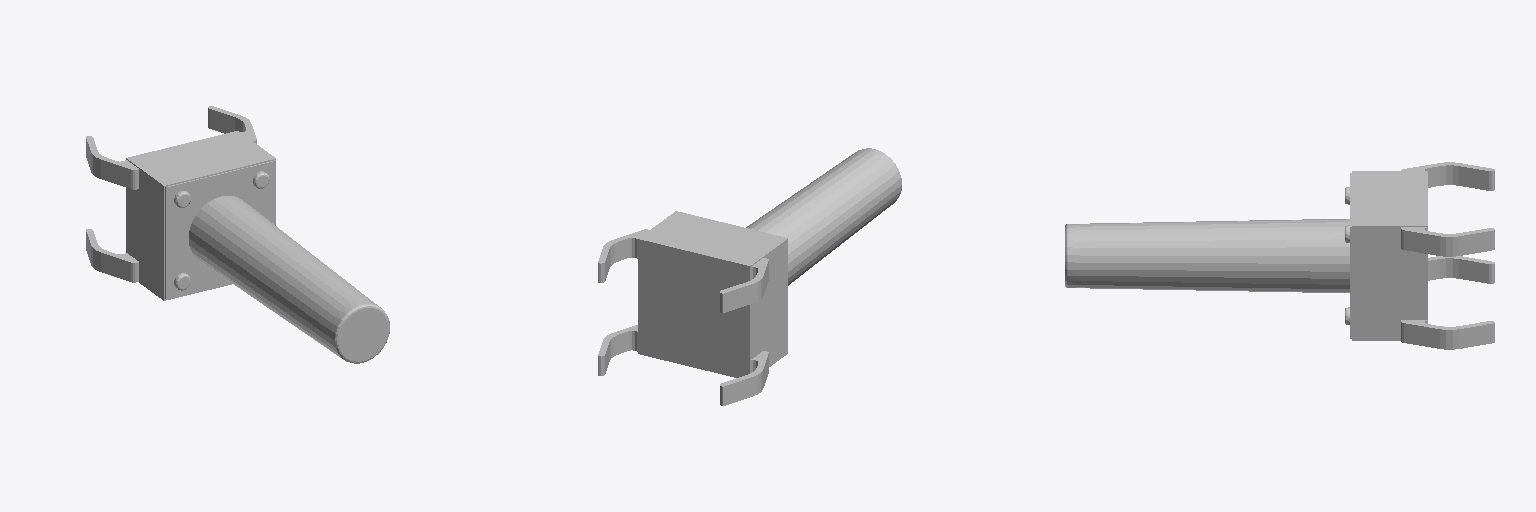
File: Tactal Switch -Thru (6mmx 6mmx17.0mm).obj
3 views of the same model, side by side, from view 1: azimuth 30°, elevation 25°; view 2: azimuth 150°, elevation 25°; view 3: azimuth 270°, elevation 25° (orthographic).
Parts seen in each view (by area): view 1: Solid1; view 2: Solid1; view 3: Solid1.
Part boxes in pixels (bbox=[...]): Solid1: bbox=[86, 106, 389, 363]; Solid1: bbox=[598, 148, 901, 405]; Solid1: bbox=[1065, 162, 1494, 349].
Size of the model in its own units: 8.35 by 5.99 by 20.32.